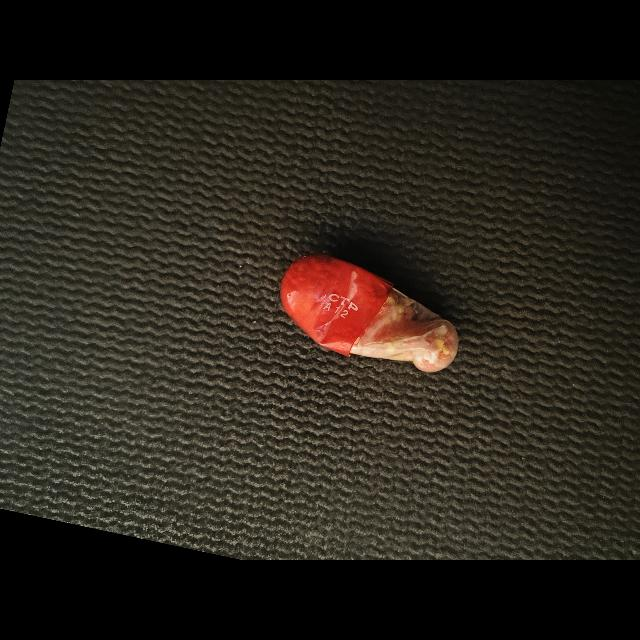Defective Capsule: (280, 255, 459, 372)
